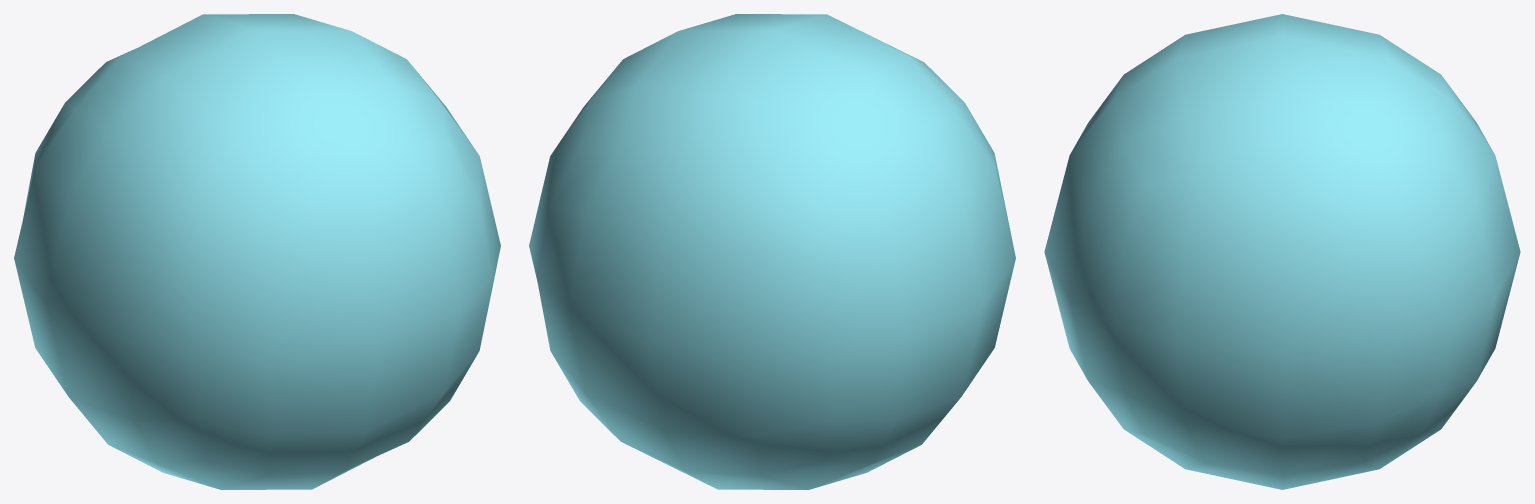
Rendered from human cell.fbx.
3 renders of one model, left to right at view 1: azimuth 30°, elevation 25°; view 2: azimuth 150°, elevation 25°; view 3: azimuth 270°, elevation 25°, orthographic. The views are drawn at different scales.
Parts seen in each view (by area): view 1: cell Wall; view 2: cell Wall; view 3: cell Wall.
Boxes of the visible parts, x1,y1,x2,y2 form: cell Wall: (14,14,500,489); cell Wall: (529,14,1015,489); cell Wall: (1044,14,1520,489).
Bounding box in the file's own units: 15 × 15 × 15.
